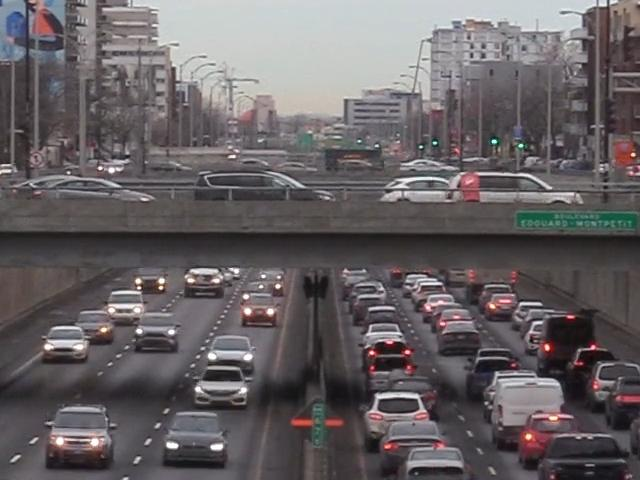car: (445, 172, 593, 207), (375, 418, 451, 480), (46, 405, 119, 468), (512, 409, 585, 471), (363, 390, 433, 453), (543, 436, 633, 480), (165, 409, 232, 468), (464, 348, 523, 402), (390, 447, 484, 480), (586, 359, 640, 416), (192, 366, 251, 411), (204, 334, 258, 378), (133, 313, 183, 351), (45, 325, 89, 365), (435, 323, 482, 357), (74, 308, 117, 345), (238, 292, 283, 327), (361, 324, 408, 357), (105, 290, 148, 326), (184, 266, 227, 297), (398, 158, 453, 176), (132, 270, 169, 295), (462, 155, 489, 168)
van: (534, 309, 599, 389)
